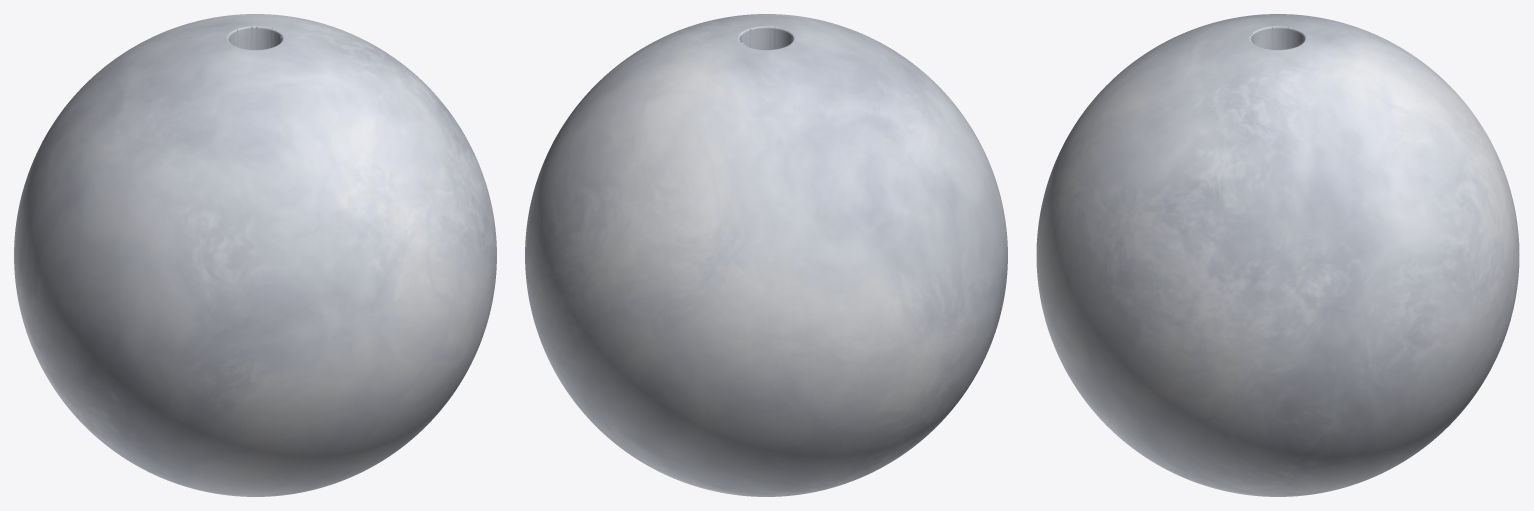
Rendered from stone-moonstone.glb.
3 renders of one model, left to right at view 1: azimuth 30°, elevation 25°; view 2: azimuth 150°, elevation 25°; view 3: azimuth 270°, elevation 25°, orthographic.
Visible parts, largest first — view 1: Bead_hi; view 2: Bead_hi; view 3: Bead_hi.
Boxes of the visible parts, bbox=[...] form: Bead_hi: bbox=[14, 14, 496, 496]; Bead_hi: bbox=[525, 14, 1007, 496]; Bead_hi: bbox=[1036, 14, 1519, 496].
Bounding box in the file's own units: 1 × 0.9939 × 1.
1 material, 1 textured.
